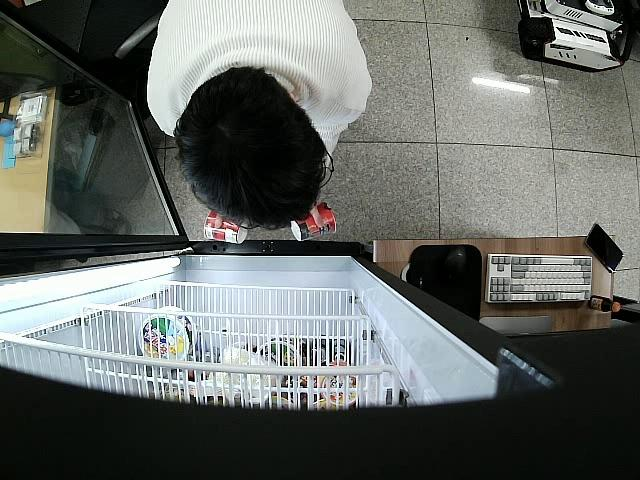02_shinRamen_S: (291, 200, 336, 241), (202, 211, 248, 245)
